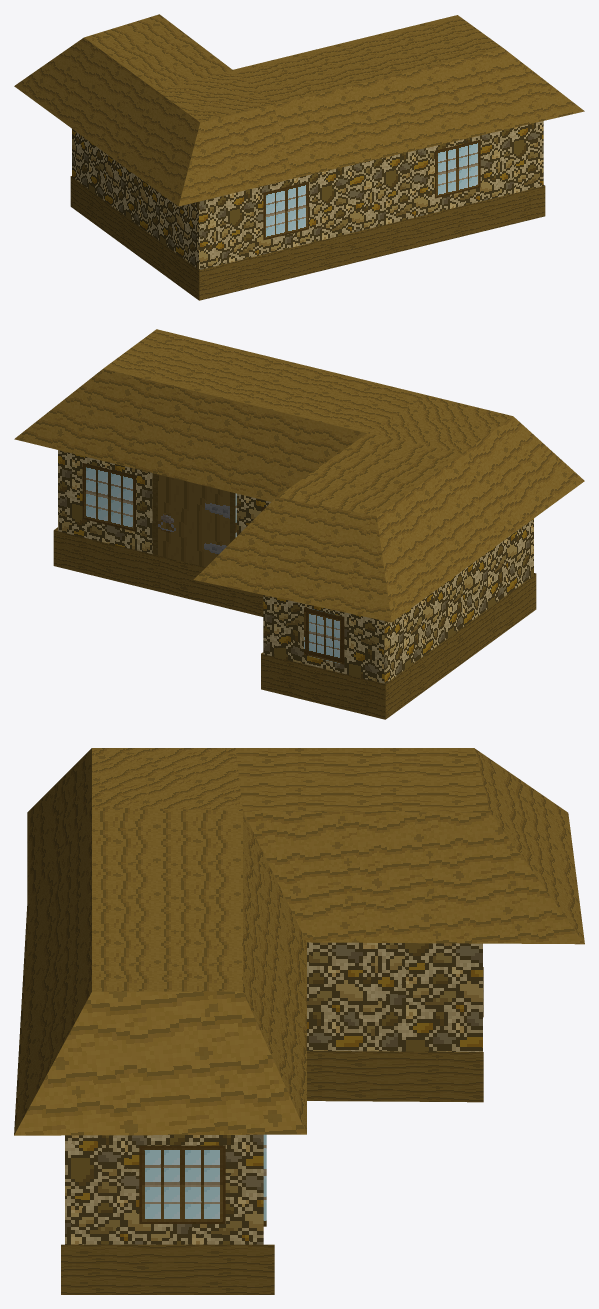
Rendered from land_residential2.fbx.
3 renders of one model, top to bottom at view 1: azimuth 30°, elevation 25°; view 2: azimuth 150°, elevation 25°; view 3: azimuth 270°, elevation 25°, orthographic. The views are drawn at different scales.
Parts seen in each view (by area): view 1: house_1_6; view 2: house_1_6; view 3: house_1_6.
Boxes of the visible parts, x1,y1,x2,y2 form: house_1_6: (14,14,584,300); house_1_6: (14,329,584,719); house_1_6: (14,748,584,1294).
Size of the model in its own units: 770 by 308 by 575.
Materials: 4 (4 with a texture image).
